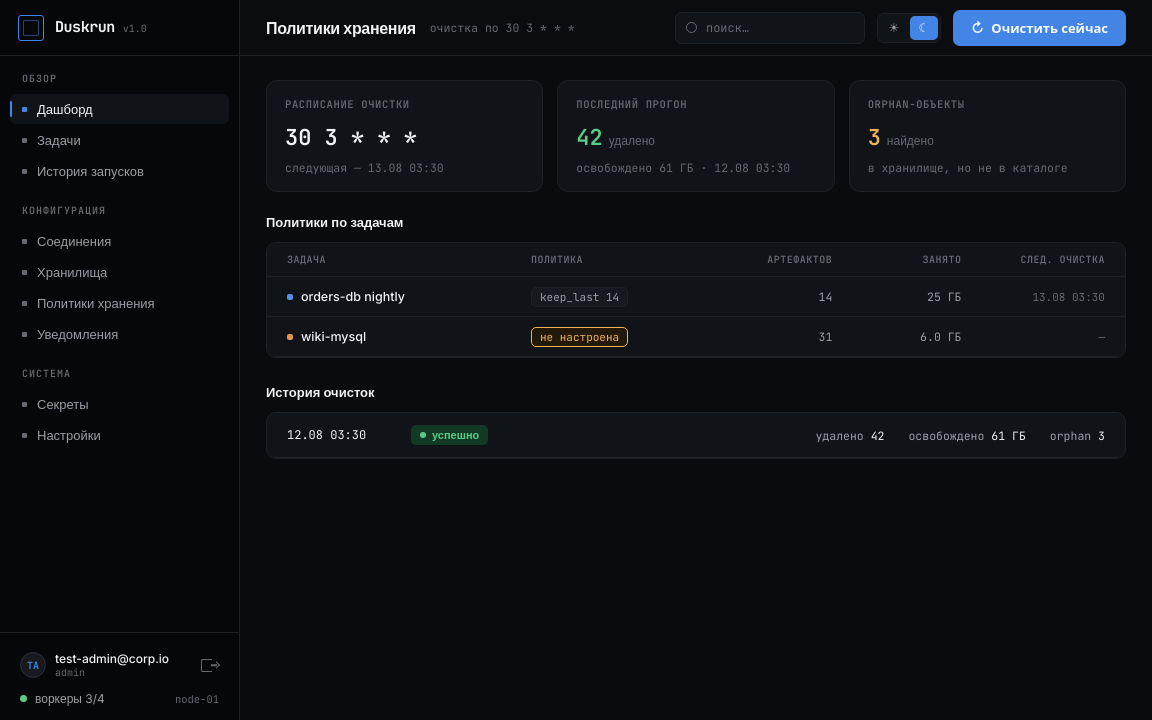
Test case: TestRetentionSweepConflictIsNotAnError: a 409 explains that a sweep is already running
Click the button "↻ Очистить сейчас". click: (1039, 28)
box: [953, 10, 1126, 46]
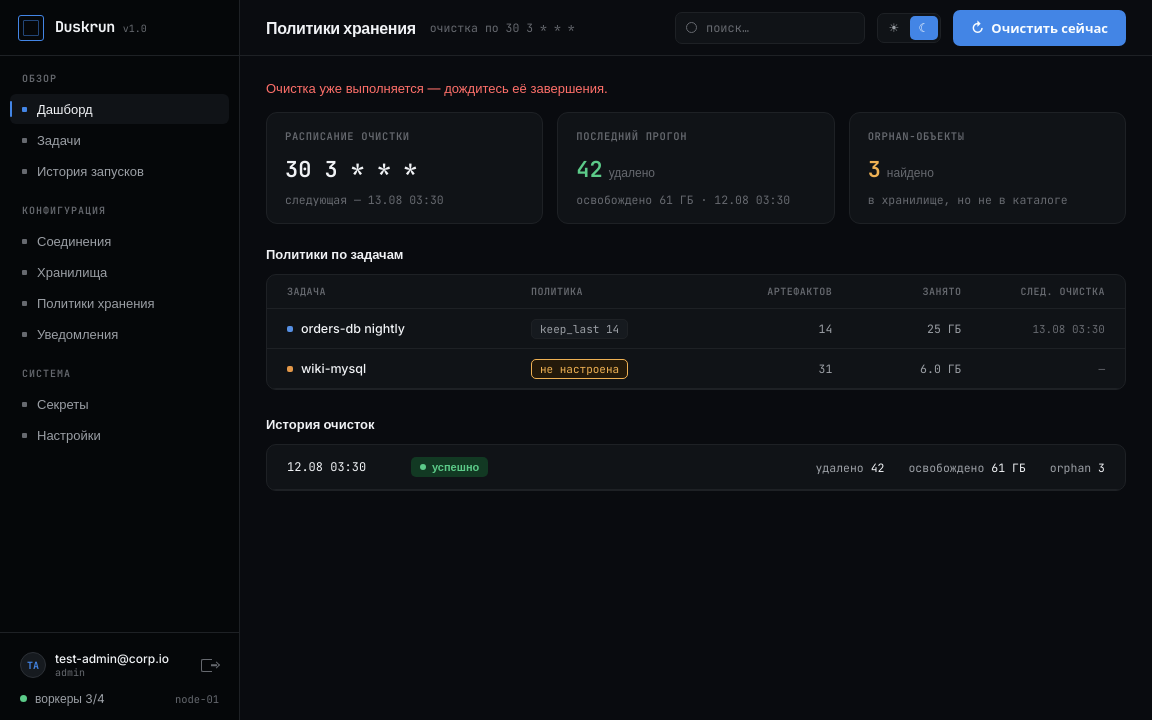
Result: the text "Очистка уже выполняется — дождитесь её завершения." is shown at [266, 80, 608, 96]
